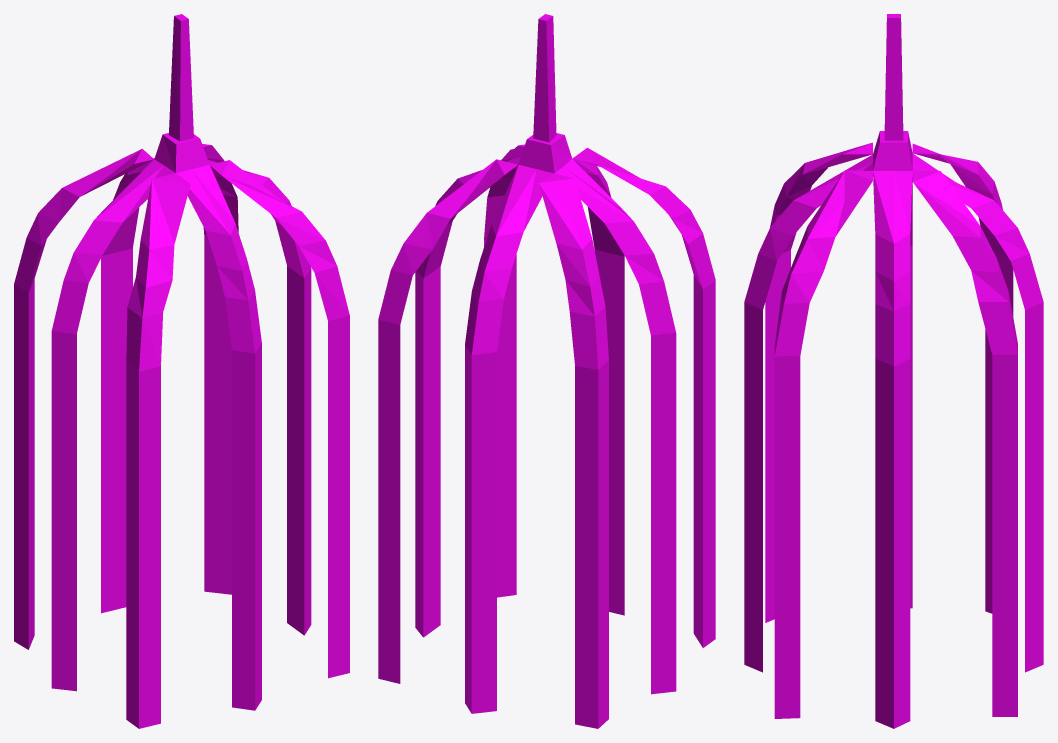
Rendered from gnomecage.obj.
3 renders of one model, left to right at view 1: azimuth 30°, elevation 25°; view 2: azimuth 150°, elevation 25°; view 3: azimuth 270°, elevation 25°, orthographic.
Visible parts, largest first — view 1: gnomecage_back; view 2: gnomecage_back; view 3: gnomecage_back.
Boxes of the visible parts, x1=… form: gnomecage_back: x1=14, y1=14, x2=349, y2=728; gnomecage_back: x1=378, y1=14, x2=715, y2=728; gnomecage_back: x1=744, y1=14, x2=1043, y2=728.
Bounding box in the file's own units: 1.3 × 3.06 × 1.28.
